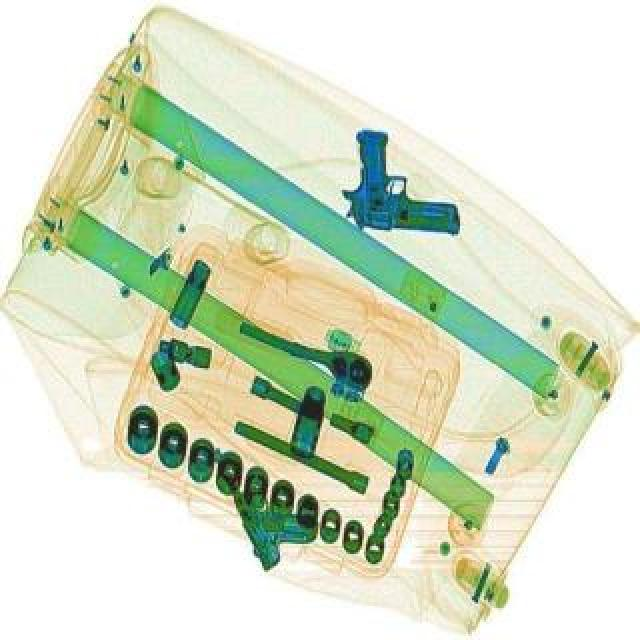gun: (200, 422, 328, 568), (336, 126, 468, 234)
